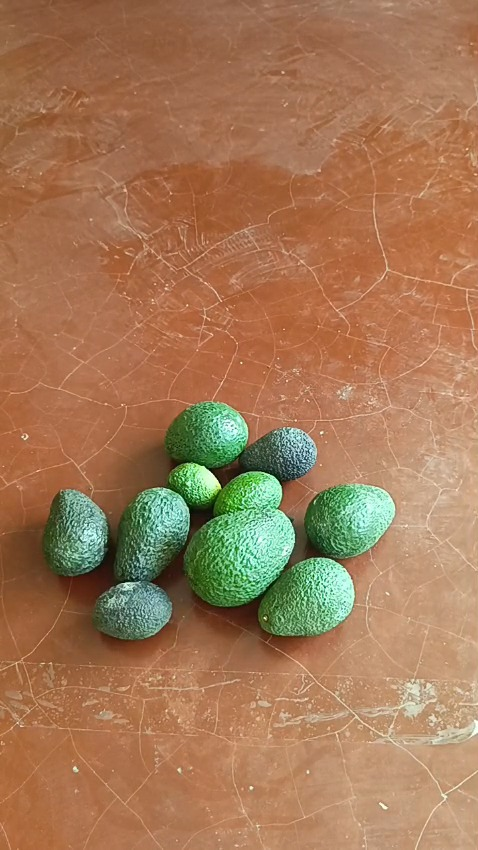Primera: (184, 507, 296, 605)
Segunda: (113, 486, 192, 582), (258, 557, 355, 635), (304, 482, 396, 557), (41, 488, 110, 577), (164, 401, 247, 467)
Tercera: (92, 579, 174, 640), (239, 426, 318, 482), (213, 471, 282, 517), (166, 461, 221, 510)
